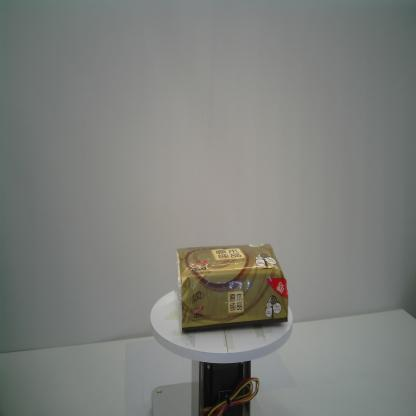Tissue: (175, 244, 289, 332)
